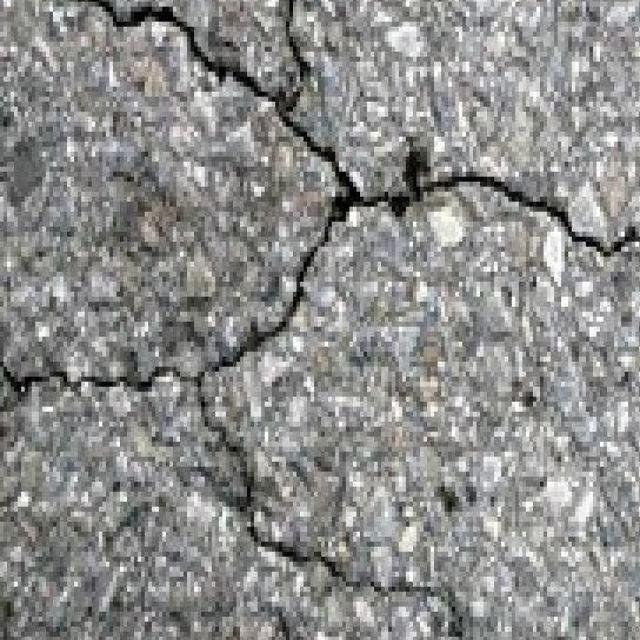crack: (196, 388, 475, 637), (276, 120, 639, 268), (1, 267, 310, 407), (94, 3, 314, 117)
